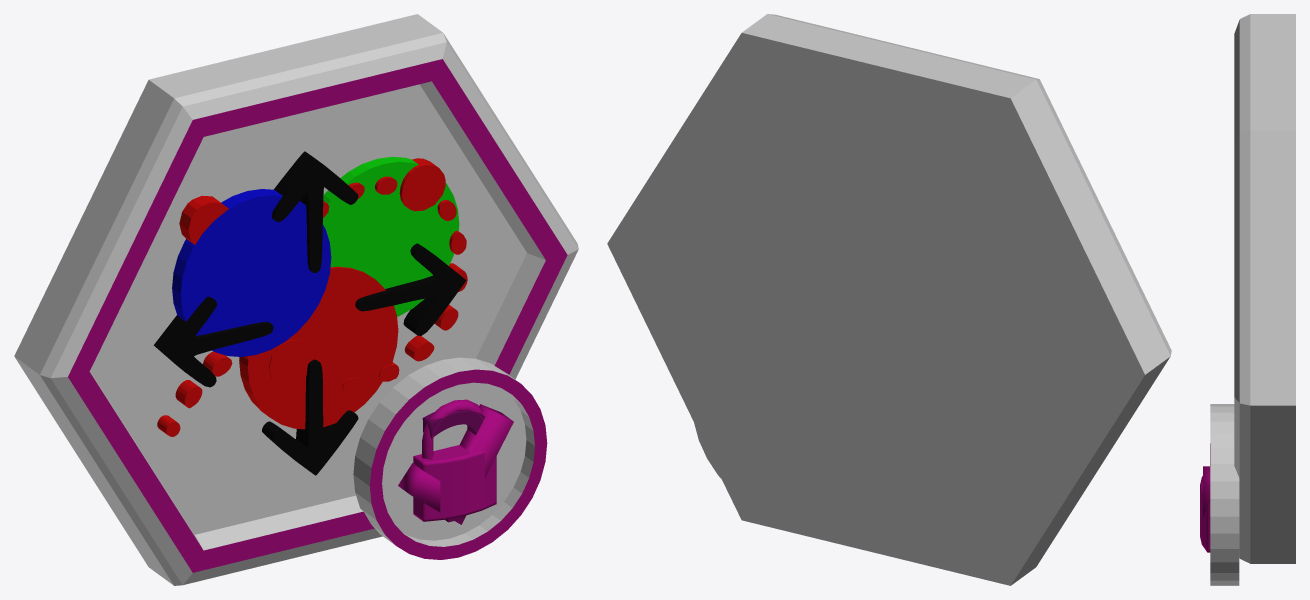
File: planar_complete.dae
The picture shows the model from 3 angles, left to right: view 1: azimuth 30°, elevation 25°; view 2: azimuth 150°, elevation 25°; view 3: azimuth 270°, elevation 25°; orthographic projection. The views are drawn at different scales.
Visible parts, largest first — view 1: node, kColor, Hamiltonian, Lock, Question; view 2: node; view 3: node, Lock.
Boxes of the visible parts, box(x1,y1,x2,y2) form: node: box(14, 14, 578, 585); kColor: box(172, 156, 459, 429); Hamiltonian: box(157, 158, 467, 436); Lock: box(413, 399, 496, 521); Question: box(422, 410, 484, 522); node: box(607, 14, 1171, 585); node: box(1203, 14, 1295, 585); Lock: box(1200, 443, 1210, 552).
Size of the model in its own units: 2 by 0.3477 by 1.8.
